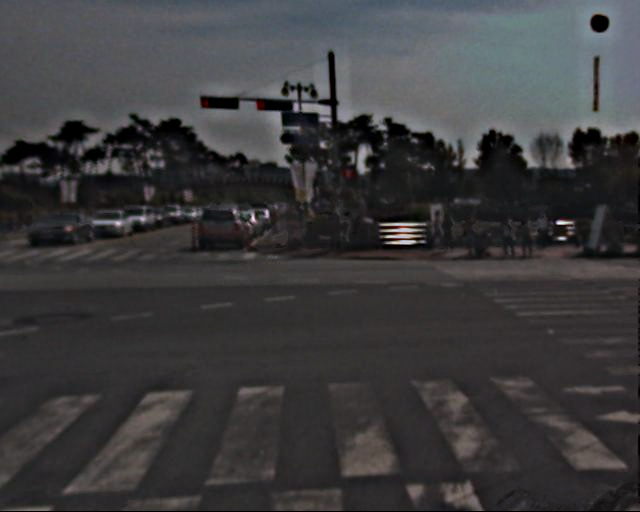person: (273, 204, 315, 247), (442, 211, 462, 259), (328, 205, 348, 253), (520, 213, 539, 260), (434, 206, 453, 252), (499, 213, 518, 259), (467, 210, 485, 255), (536, 208, 554, 252)
